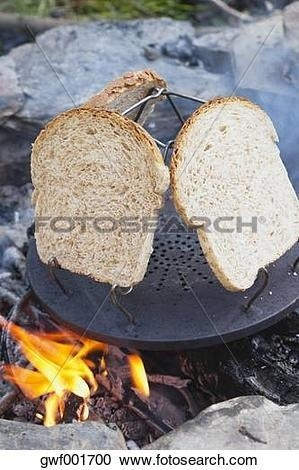fire: (0, 316, 124, 425), (127, 352, 151, 396)
